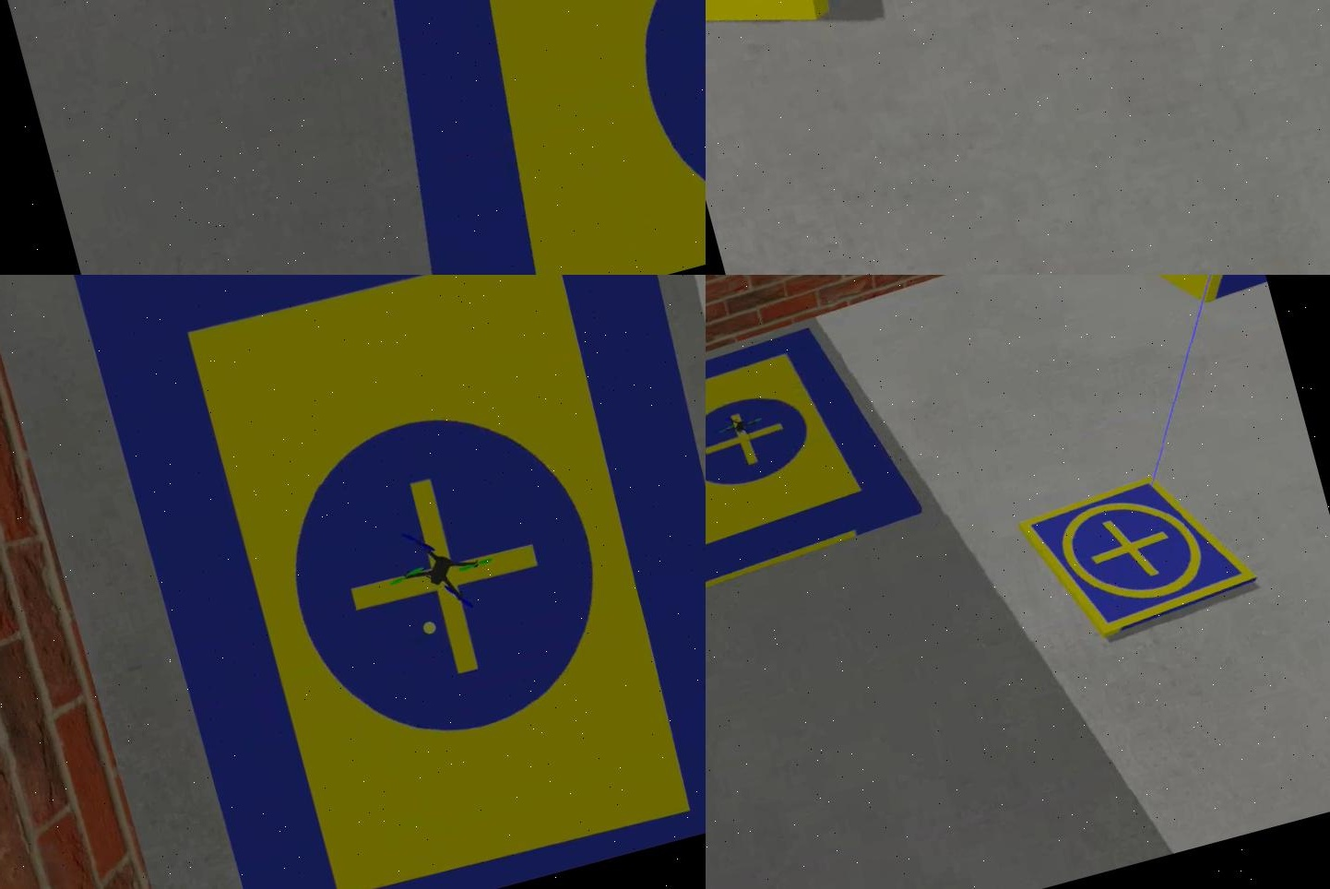large_base: (65, 275, 705, 889), (320, 1, 705, 275), (705, 308, 923, 610)
small_base: (1018, 458, 1258, 657)
